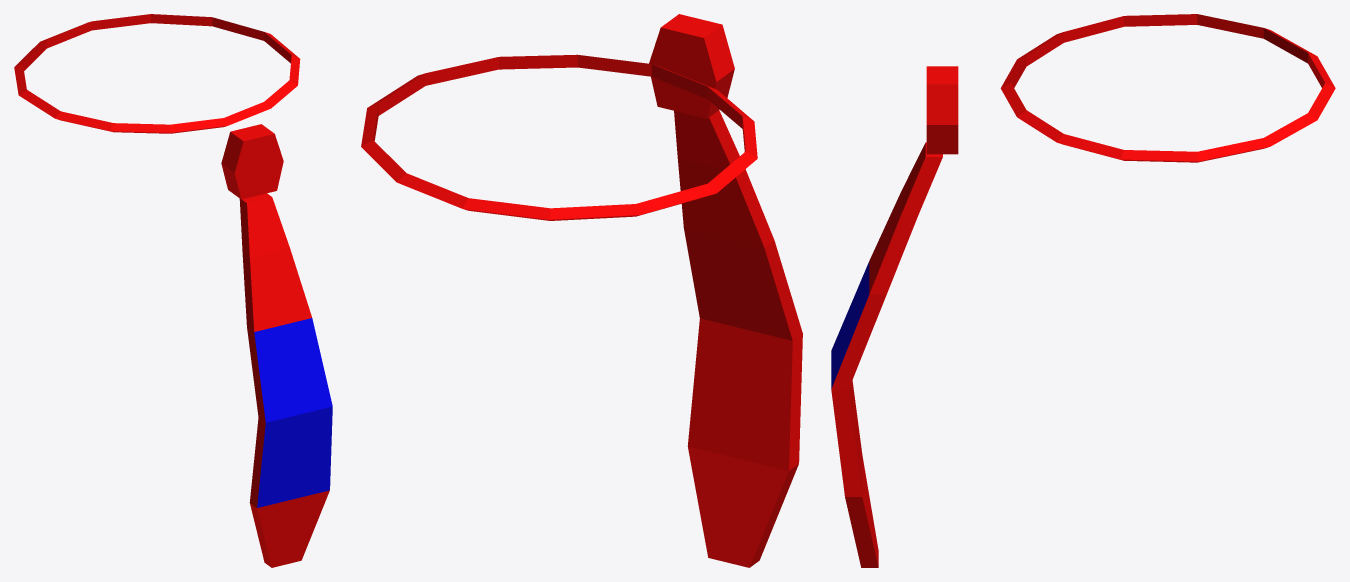
Rendered from neck_tie_01.glb.
The picture shows the model from 3 angles, left to right: view 1: azimuth 30°, elevation 25°; view 2: azimuth 150°, elevation 25°; view 3: azimuth 270°, elevation 25°; orthographic projection. The views are drawn at different scales.
Visible parts, largest first — view 1: neck_tie_01; view 2: neck_tie_01; view 3: neck_tie_01.
Boxes of the visible parts, x1,y1,x2,y2 form: neck_tie_01: (14,14,332,567); neck_tie_01: (361,14,802,567); neck_tie_01: (831,14,1335,567).
Bounding box in the file's own units: 0.1693 × 0.261 × 0.2465.
1 material, 1 textured.
